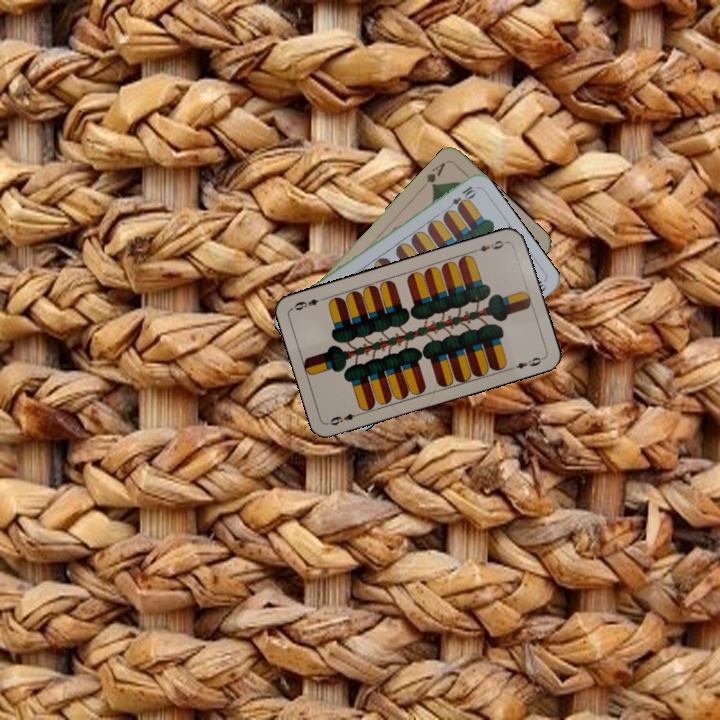E10: (442, 182, 478, 214)
E9: (469, 236, 509, 255), (326, 409, 365, 428)
GA: (422, 158, 448, 191)
